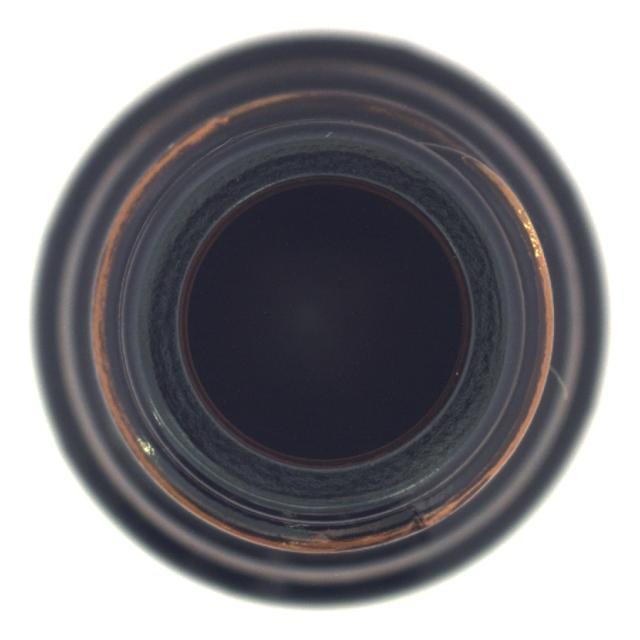bottle-good: (29, 31, 596, 607)
